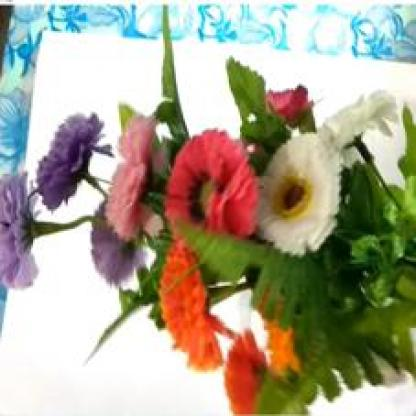flower: (18, 29, 414, 403)
